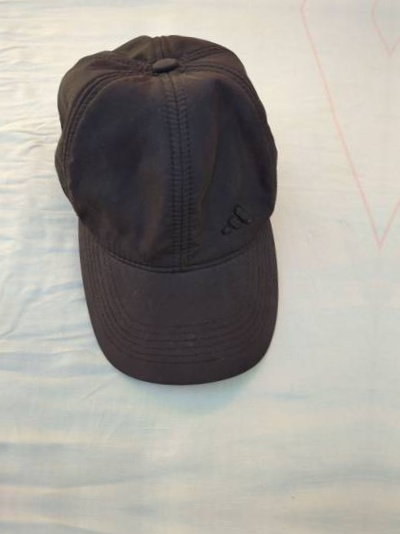Hat: (16, 5, 324, 382)
